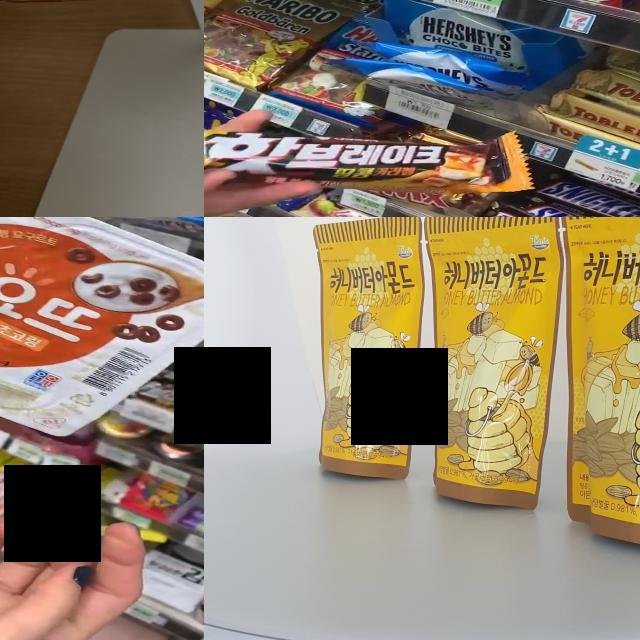bYott: (0, 217, 204, 441)
honeyAmond: (430, 217, 550, 497), (314, 223, 421, 476)
hotBreak: (204, 118, 535, 193)
